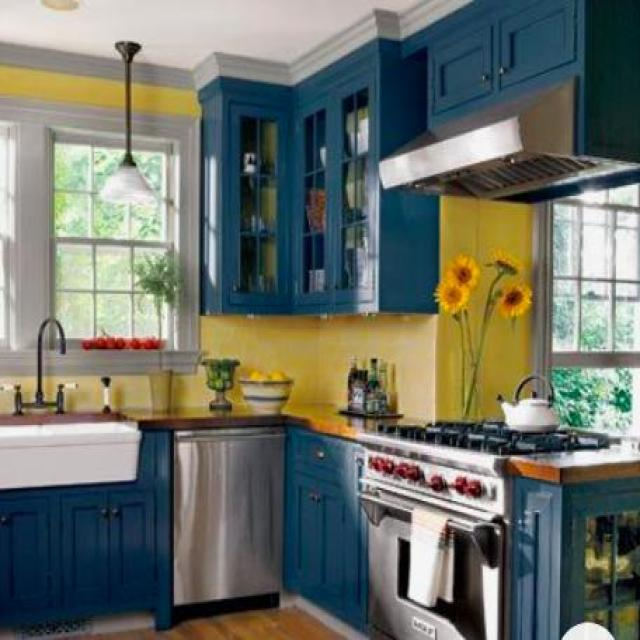dishwasher: (167, 424, 291, 621)
